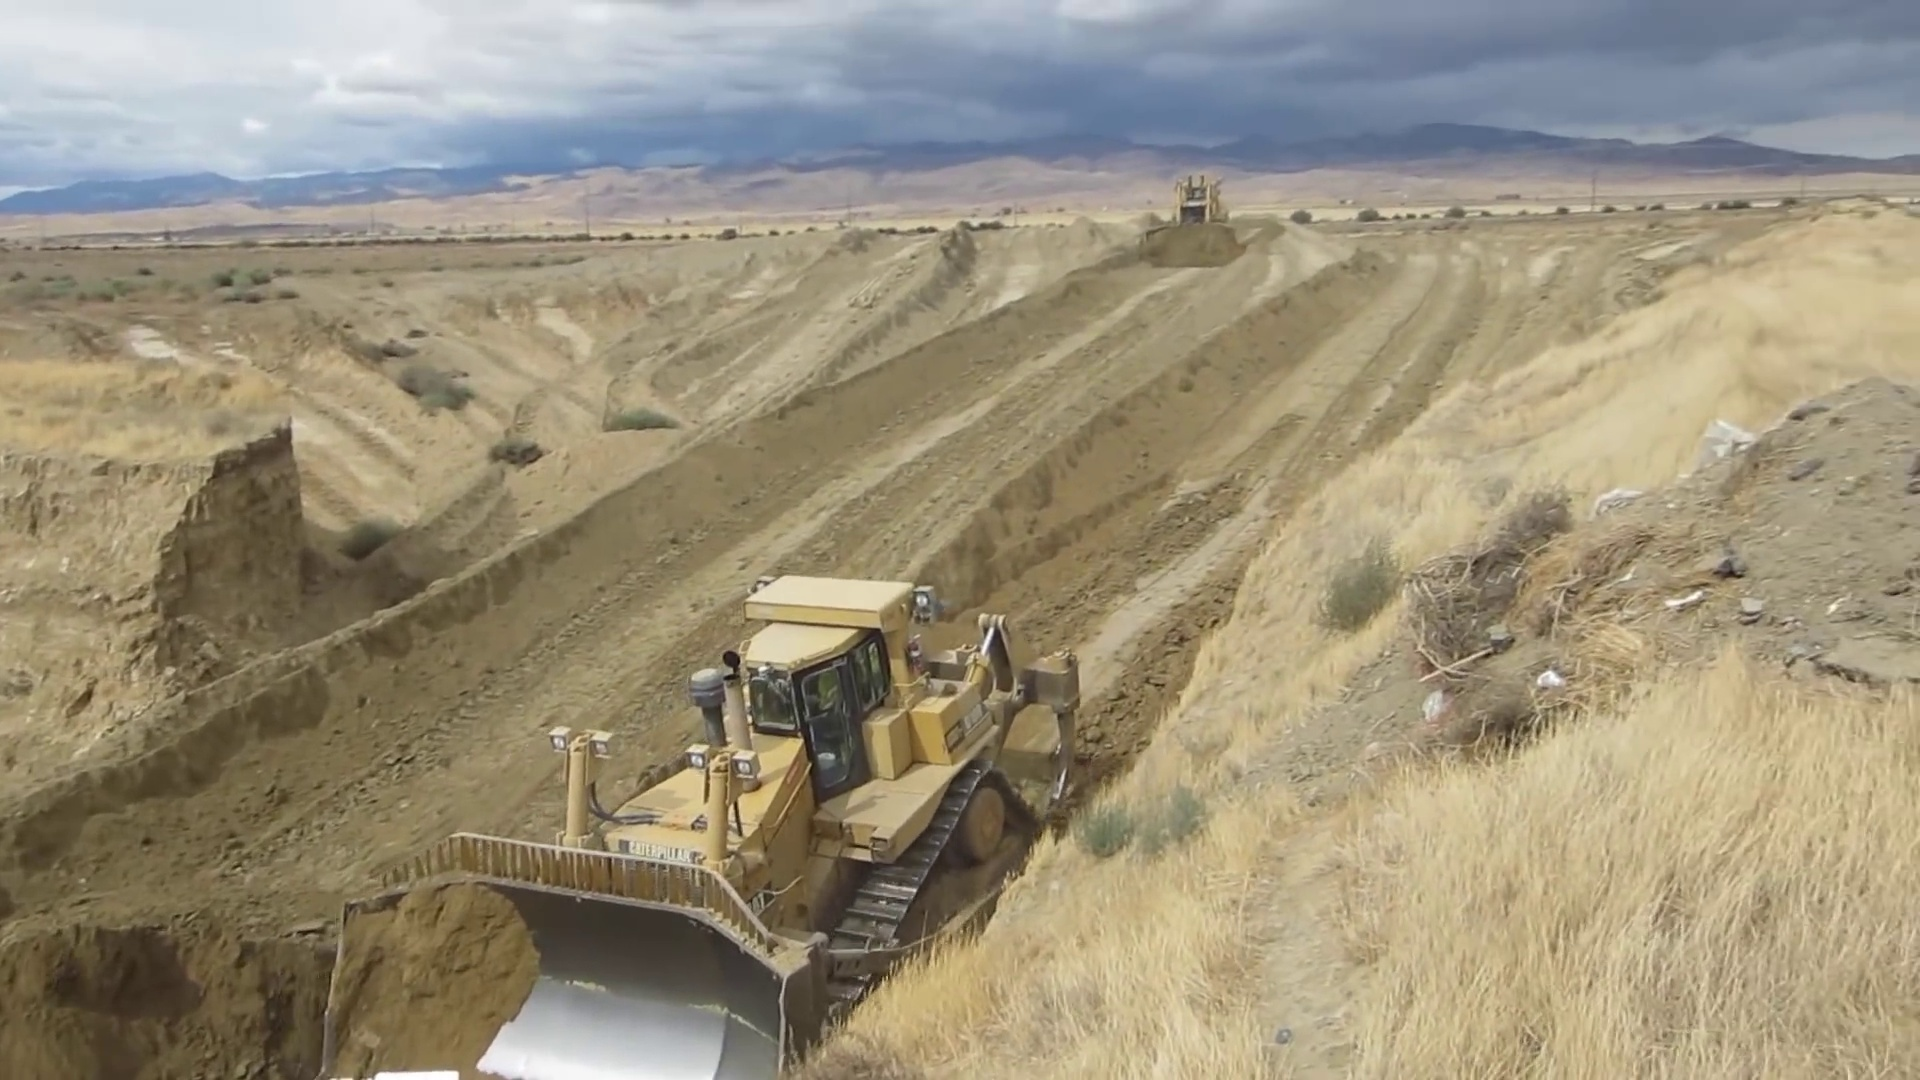bulldozer: (307, 567, 1087, 1080), (1151, 167, 1237, 256)
